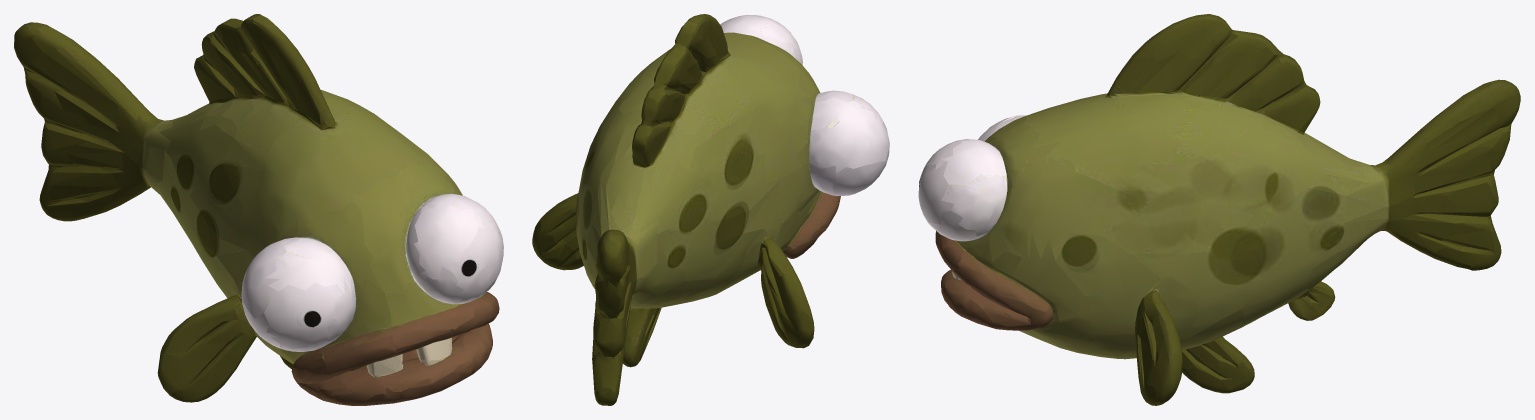
File: fish.glb
The picture shows the model from 3 angles, left to right: view 1: azimuth 30°, elevation 25°; view 2: azimuth 150°, elevation 25°; view 3: azimuth 270°, elevation 25°; orthographic projection. The views are drawn at different scales.
Parts seen in each view (by area): view 1: Mesh_0; view 2: Mesh_0; view 3: Mesh_0.
Boxes of the visible parts, x1=… form: Mesh_0: x1=14, y1=14, x2=503, y2=405; Mesh_0: x1=532, y1=14, x2=889, y2=405; Mesh_0: x1=918, y1=14, x2=1520, y2=405.
Bounding box in the file's own units: 0.5594 × 0.65 × 1.
Materials: 1 (1 with a texture image).
